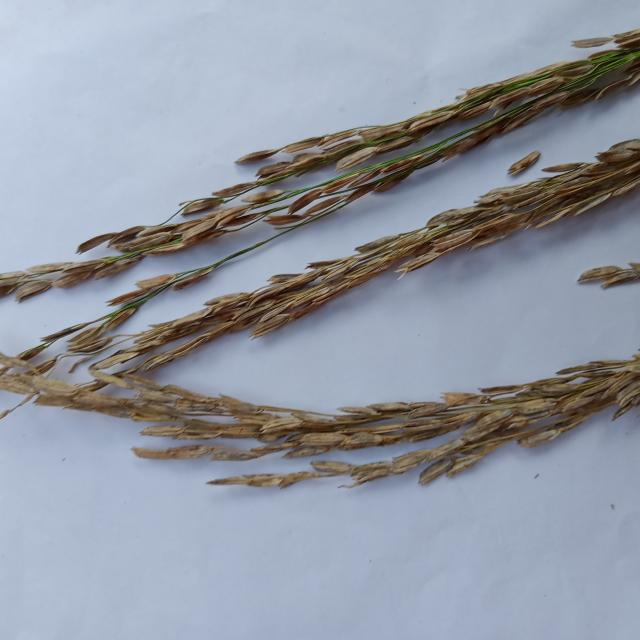Neck_Blast: (19, 38, 639, 299), (137, 140, 640, 372), (90, 358, 638, 482)
